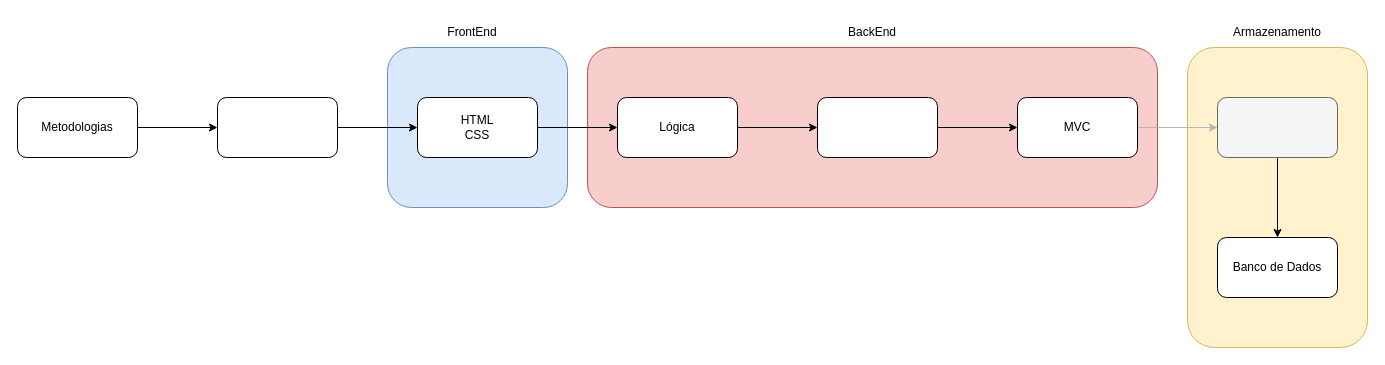
Some shapes in this 1385 by 365 pixel diagram are drawn without their labels. Here are the shapes that lost their labels. From the top down, the centre of each, then its label:
pixel 277 127: Design
pixel 877 127: OO
pixel 1277 127: CSV
